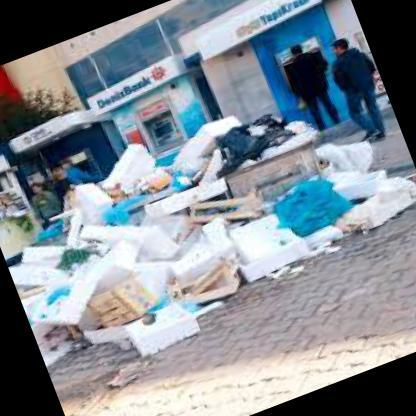Garbage: (8, 164, 276, 391), (63, 99, 307, 229), (229, 157, 415, 283)
